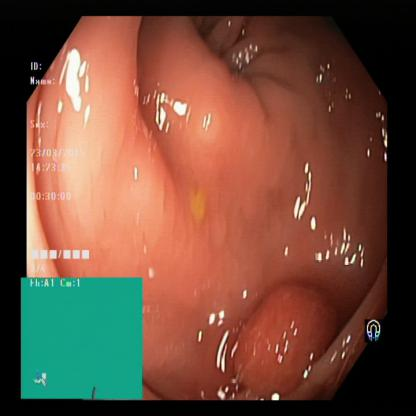Labels: (30, 53, 107, 277), (22, 277, 141, 399), (360, 309, 388, 338)
Polyps: (217, 282, 341, 395)
